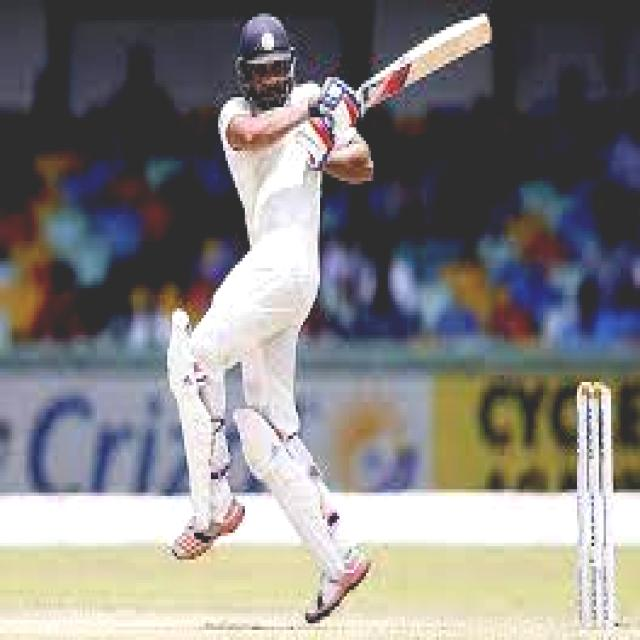toe: (484, 6, 494, 51)
